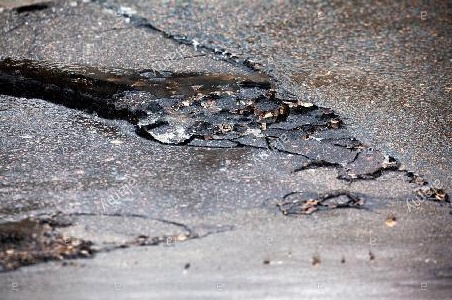pothole: (0, 3, 450, 209), (0, 214, 102, 275), (275, 189, 369, 219)
